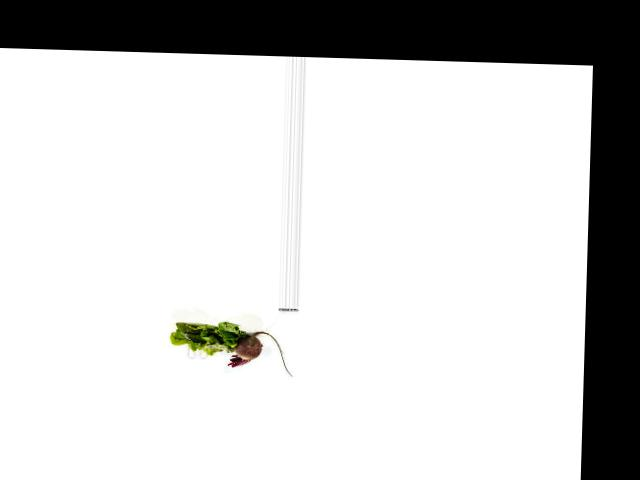beet: (227, 330, 295, 376)
